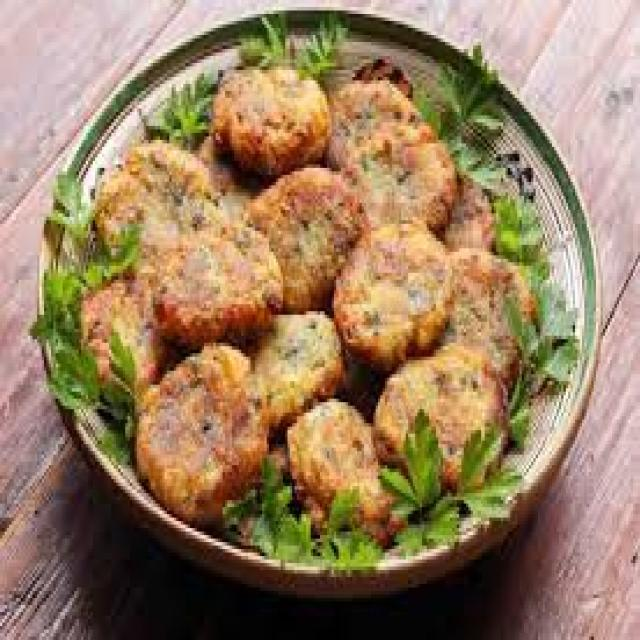Aloo Tikki: (138, 340, 266, 526), (330, 81, 455, 226), (138, 221, 284, 344), (248, 167, 370, 314), (333, 226, 458, 368), (378, 348, 509, 482), (284, 401, 401, 546), (97, 140, 216, 274), (212, 66, 332, 182), (83, 272, 179, 414), (441, 250, 538, 380), (242, 314, 345, 430), (432, 170, 494, 249)
